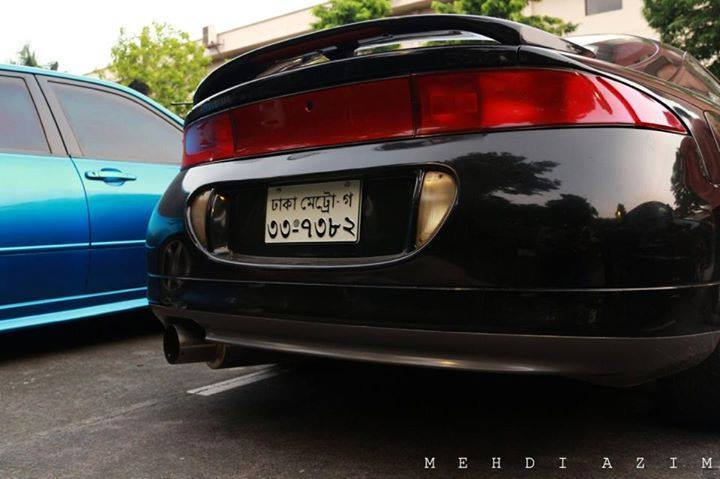registration_plate: (265, 179, 362, 244)
